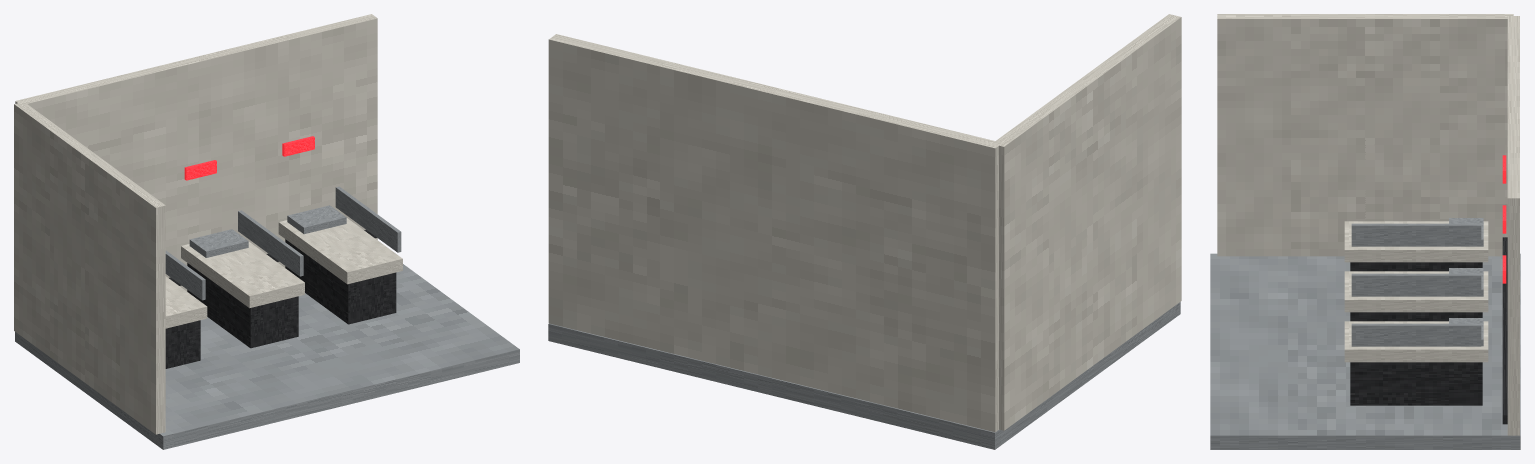
The model's file is vael-clinic.glb.
3 views of the same model, side by side, from view 1: azimuth 30°, elevation 25°; view 2: azimuth 150°, elevation 25°; view 3: azimuth 270°, elevation 25° (orthographic). The views are drawn at different scales.
Visible parts, largest first — view 1: back wall, return wall, floor, cradle pad (×3), bed pedestal (×3), side rail (×3), head cushion (×2); view 2: back wall, return wall, floor; view 3: return wall, floor, side rail (×3), cradle pad (×3), bed pedestal (×3), back wall, wall trim.
Part boxes in pixels (x1,y1,x2,y2): back wall: (15, 14, 377, 291); return wall: (14, 103, 165, 434); floor: (15, 264, 519, 449); cradle pad (×3): (165, 218, 402, 328); bed pedestal (×3): (165, 239, 396, 368); side rail (×3): (165, 186, 401, 300); head cushion (×2): (189, 205, 346, 257); back wall: (548, 34, 1001, 432); return wall: (992, 14, 1181, 430); floor: (548, 302, 1180, 449); return wall: (1217, 14, 1513, 256); floor: (1210, 253, 1520, 449); side rail (×3): (1351, 223, 1481, 346); cradle pad (×3): (1344, 221, 1488, 362); bed pedestal (×3): (1350, 262, 1482, 405); back wall: (1507, 16, 1519, 435); wall trim: (1502, 237, 1507, 424).
Bounding box in the file's own units: 3.76 × 2.4 × 2.68.
Materials: 4 (4 with a texture image).
